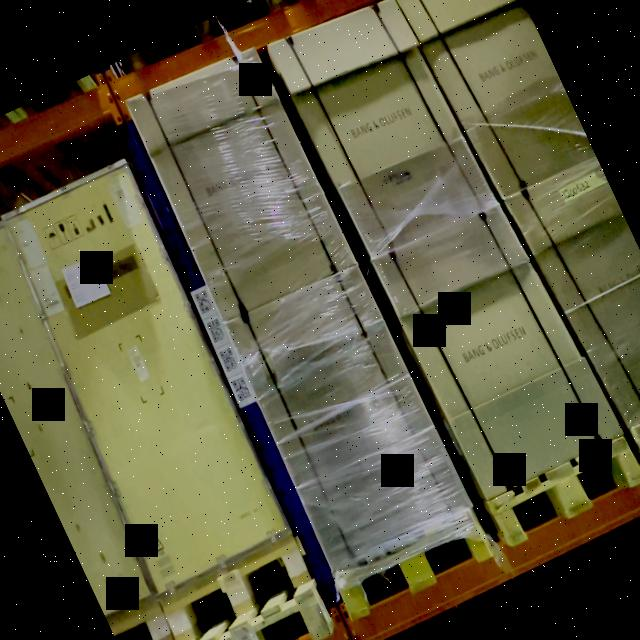box: (2, 161, 292, 585), (227, 265, 470, 570), (376, 205, 611, 502), (128, 48, 354, 322), (273, 0, 488, 256)
